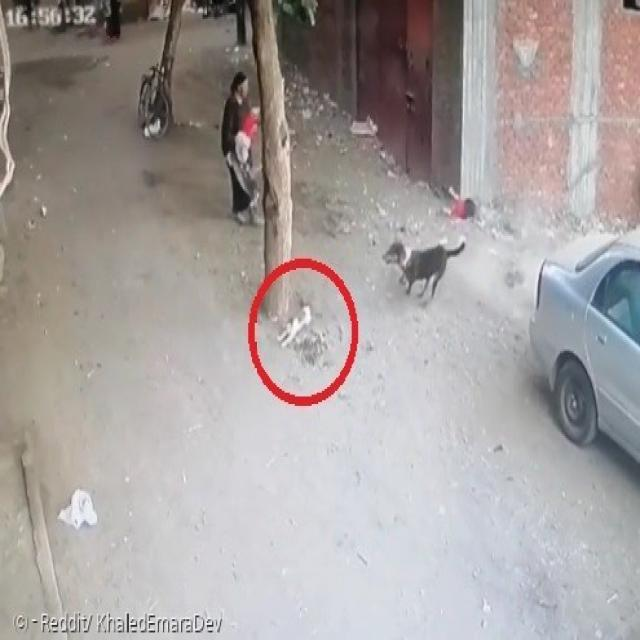cat: (277, 293, 320, 364)
